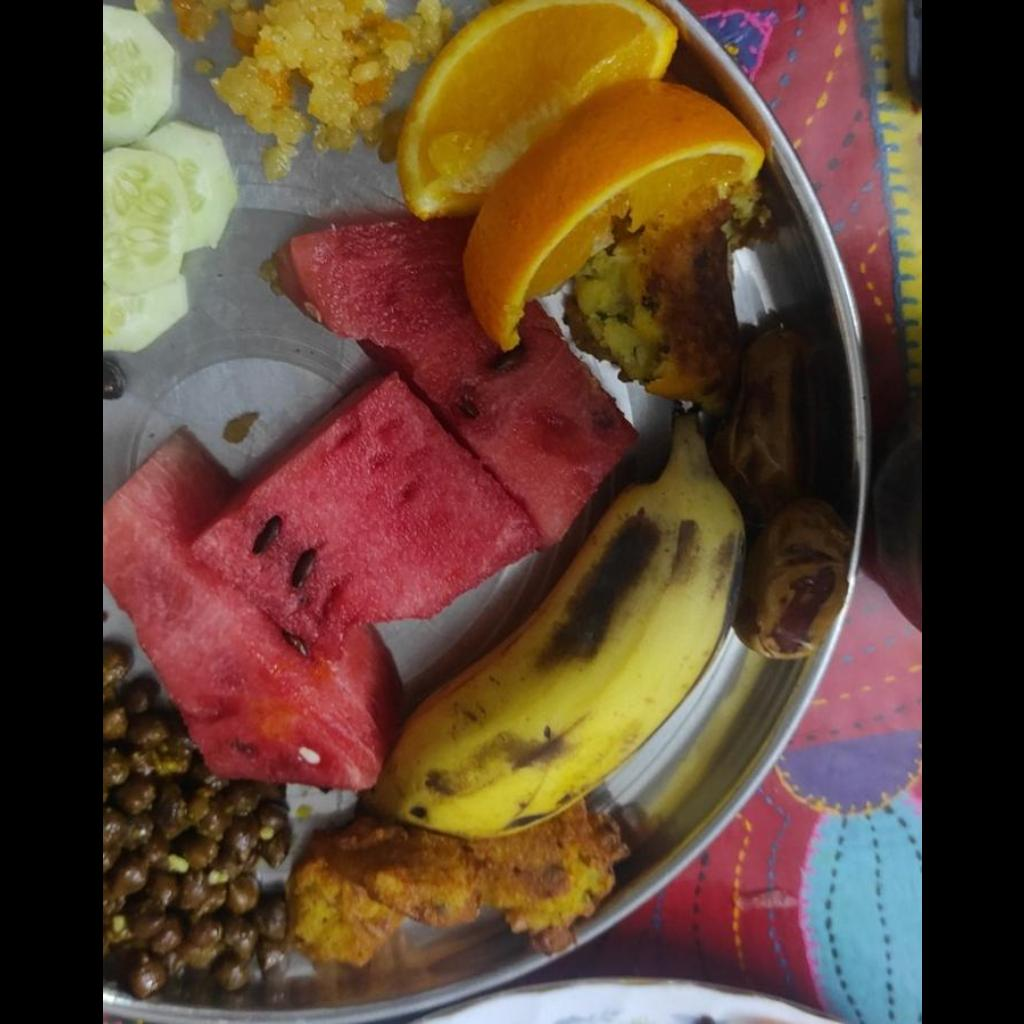banana: (376, 397, 739, 839)
burinda: (211, 0, 450, 176)
chola: (102, 640, 286, 986), (102, 4, 238, 353)
dates: (746, 508, 848, 659)
orange: (392, 1, 767, 350)
piyaju: (287, 803, 624, 969)
watermelon: (108, 210, 641, 782)
